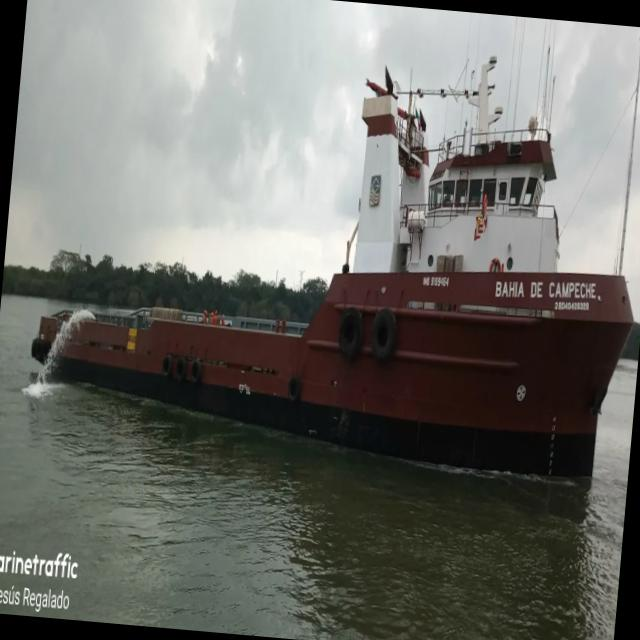Offshore: (30, 56, 633, 478)
